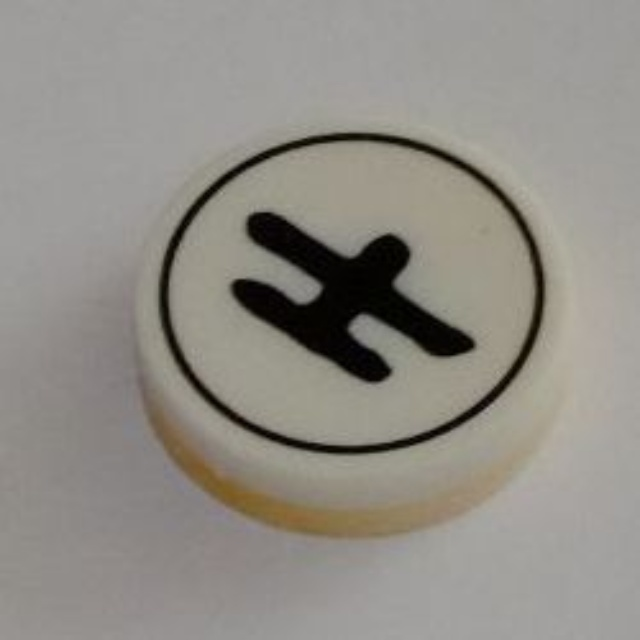black_si: (124, 110, 577, 541)
